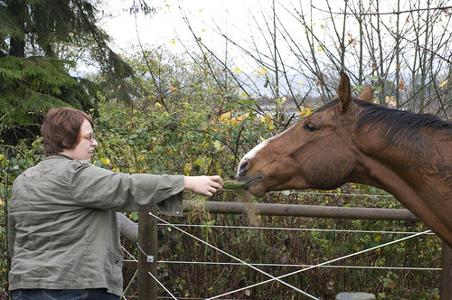person: (7, 107, 221, 300)
